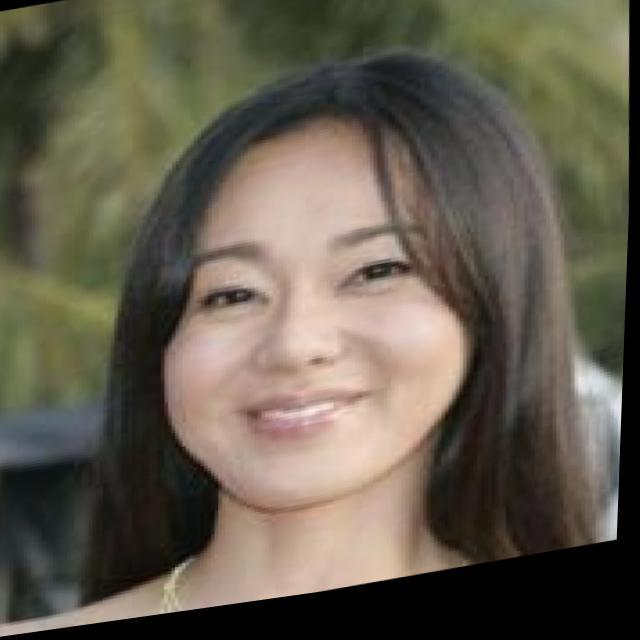Nonhelmet: (133, 47, 574, 514)
